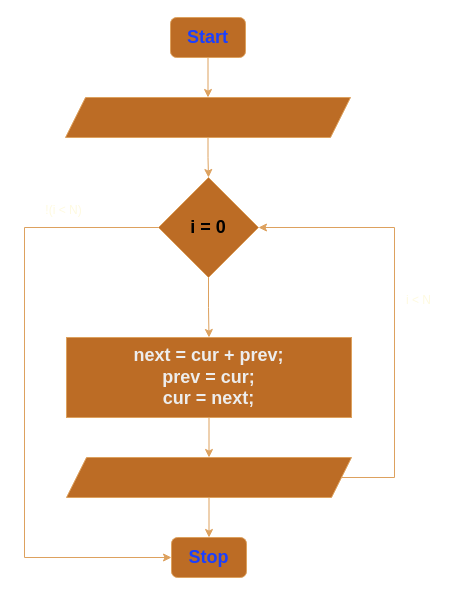
Image size: 461x595. Some labels were removed from this diagram. Here are the shapes that lost their labels. From the top down, the centre of each, then its label:
At pixel 207 117: "Take Input N times".
At pixel 209 477: "Print prev".
